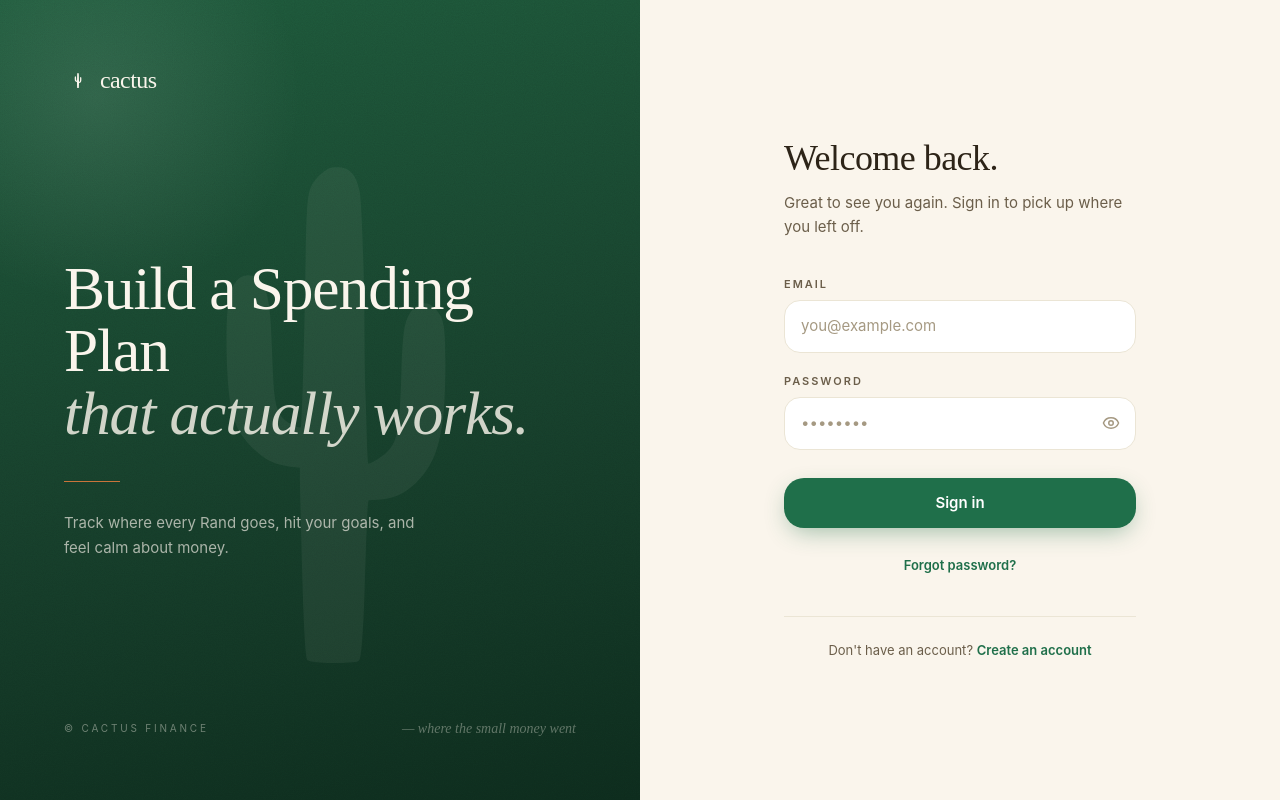
Scenario: LoginPage › shows an error message when credentials are rejected
Type "fail@example.com" into the field labelled "Email" at (960, 326), box [784,300,1136,353]
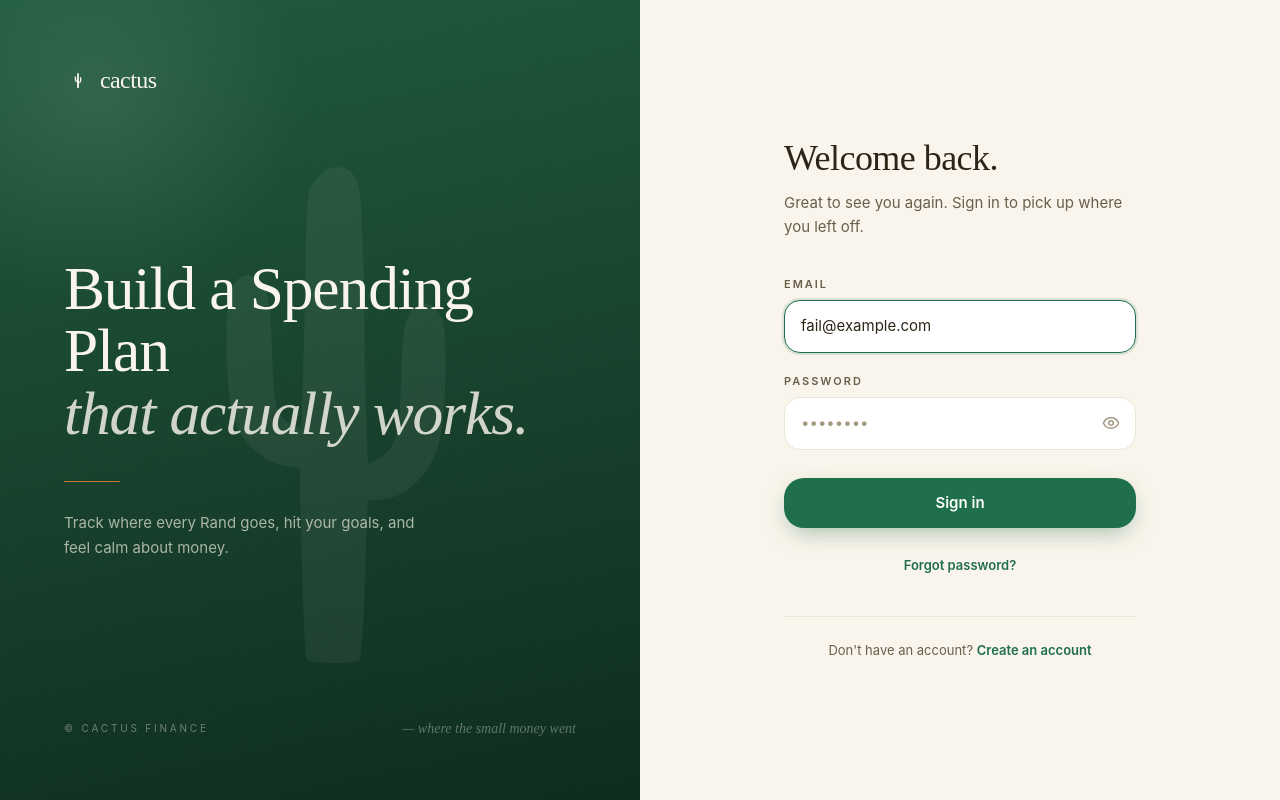
Type "wrong" into the password field labelled "Password" at (960, 423), box [784,397,1136,450]
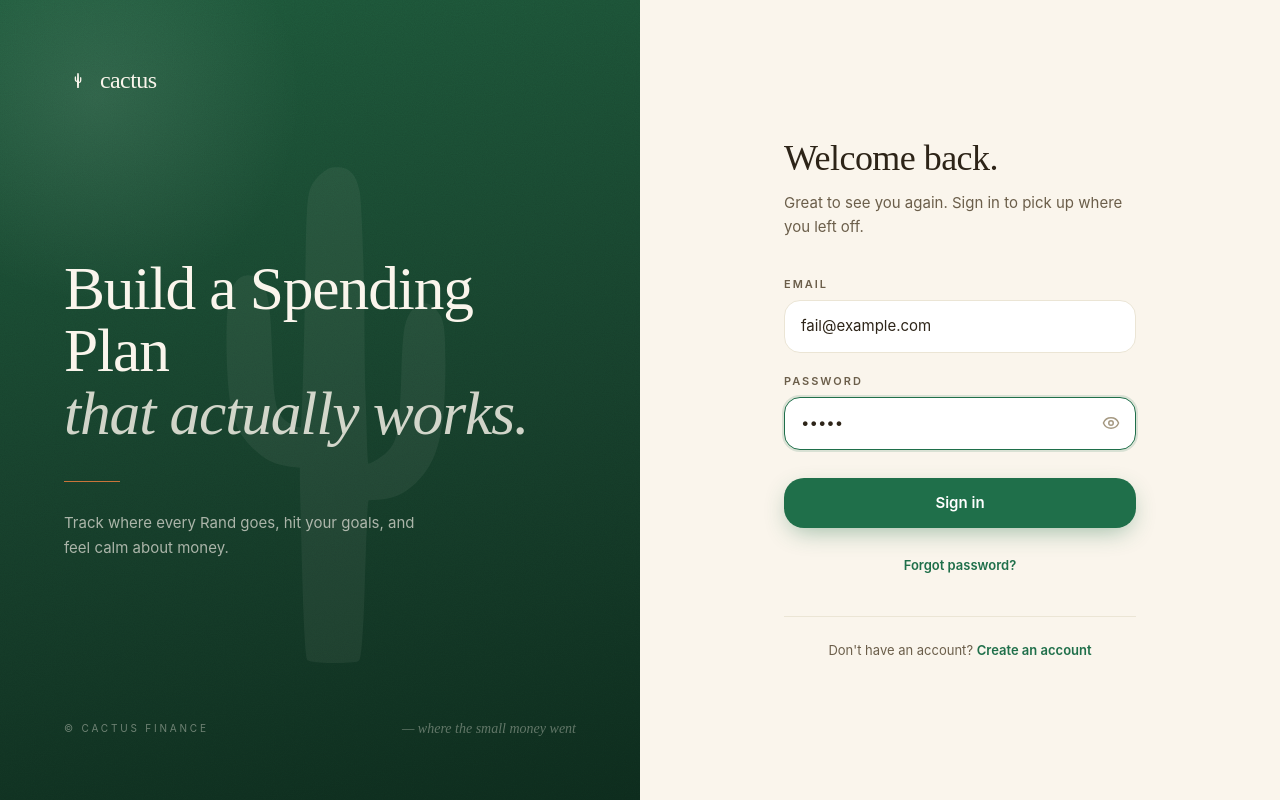
Click the button "Sign in" at (960, 503), box [784,478,1136,528]
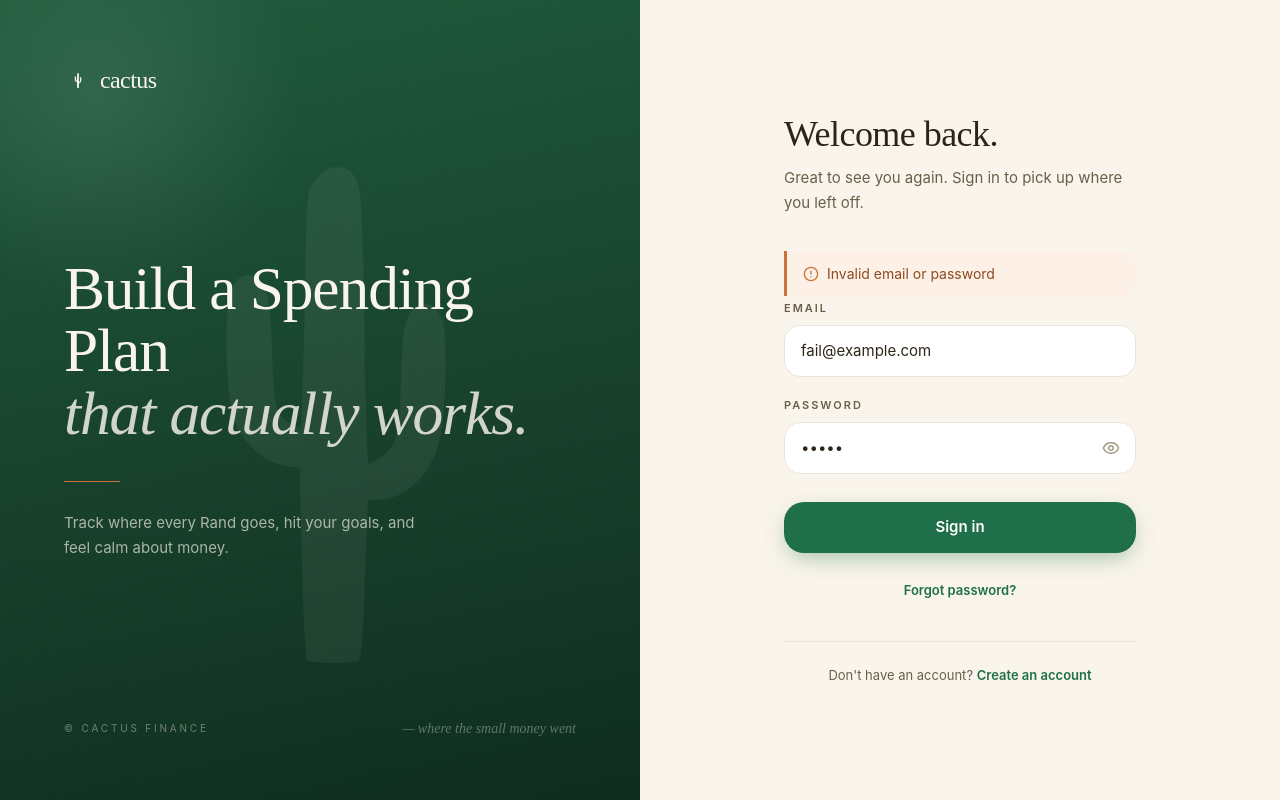
Expected: the text "Invalid email or password" is shown, [827,263,995,284]
